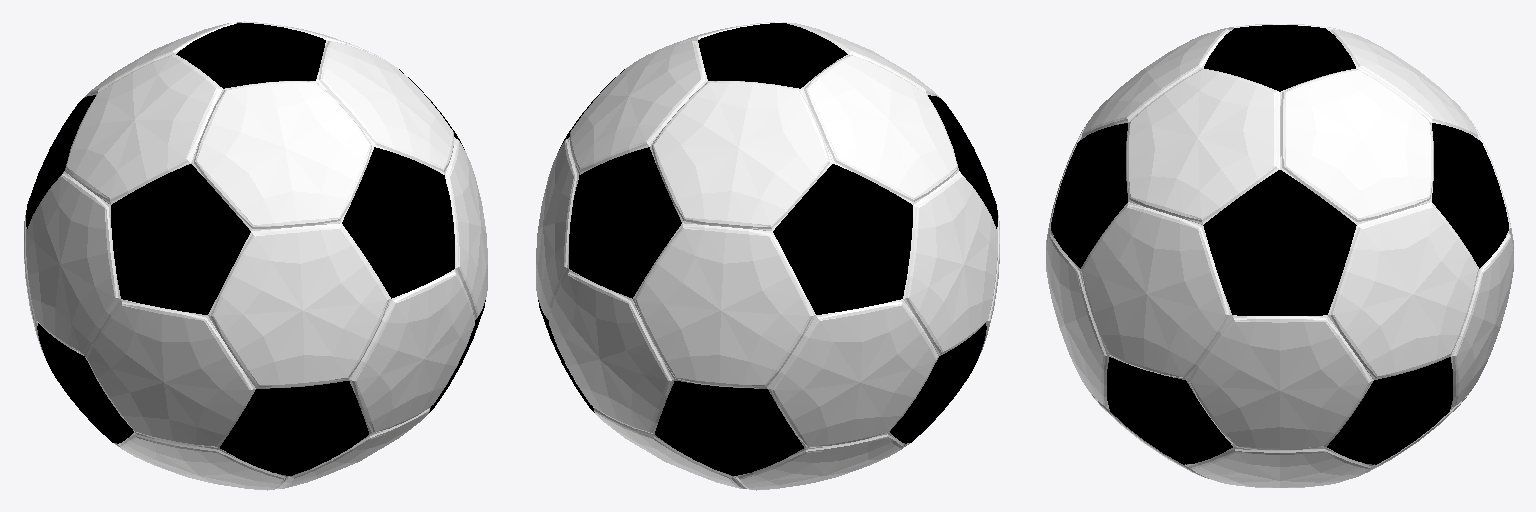
File: football.obj
The picture shows the model from 3 angles: view 1: azimuth 30°, elevation 25°; view 2: azimuth 150°, elevation 25°; view 3: azimuth 270°, elevation 25°; orthographic projection.
Visible parts, largest first — view 1: Icosphere; view 2: Icosphere; view 3: Icosphere.
Boxes of the visible parts, <box> form: Icosphere: <box>24,21,487,490</box>; Icosphere: <box>536,21,999,490</box>; Icosphere: <box>1046,24,1513,487</box>.
Size of the model in its own units: 1.73 by 1.73 by 1.75.